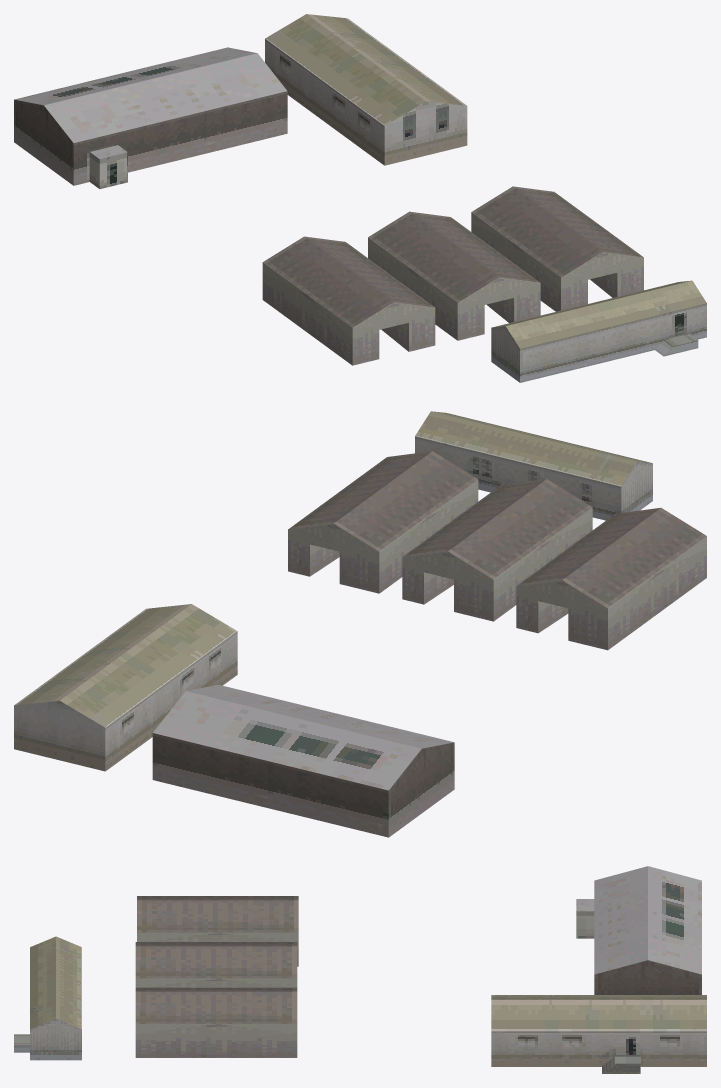
Rendered from lodce_factcomp1.obj.
3 renders of one model, top to bottom at view 1: azimuth 30°, elevation 25°; view 2: azimuth 150°, elevation 25°; view 3: azimuth 270°, elevation 25°, orthographic. The views are drawn at different scales.
Visible parts, largest first — view 1: LODCE_factcomp1; view 2: LODCE_factcomp1; view 3: LODCE_factcomp1.
Part boxes in pixels (box(x1,y1,x2,y2)): LODCE_factcomp1: box(14, 14, 706, 382); LODCE_factcomp1: box(14, 411, 706, 837); LODCE_factcomp1: box(14, 866, 706, 1073).
Bounding box in the file's own units: 34.01 × 5.46 × 64.29.
3 materials, 3 textured.
